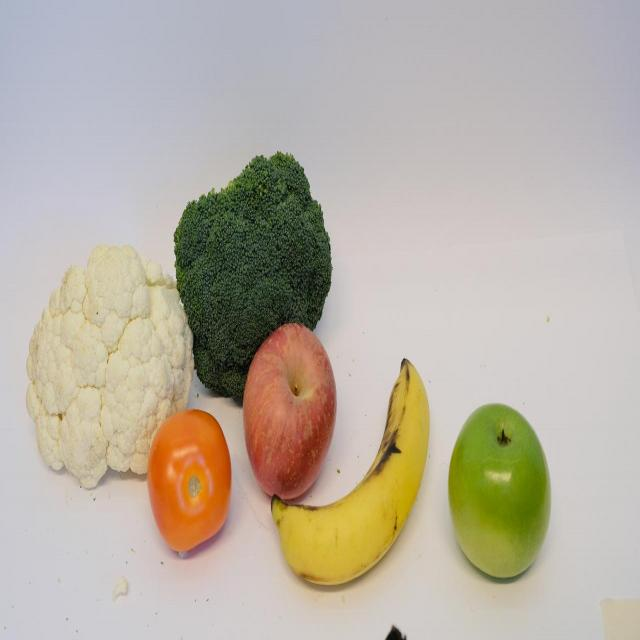apple: (444, 373, 558, 594), (234, 302, 338, 502)
banana: (277, 354, 439, 587)
broccoli: (166, 147, 332, 370)
cauliflower: (25, 239, 192, 490)
tomato: (151, 406, 234, 580)
